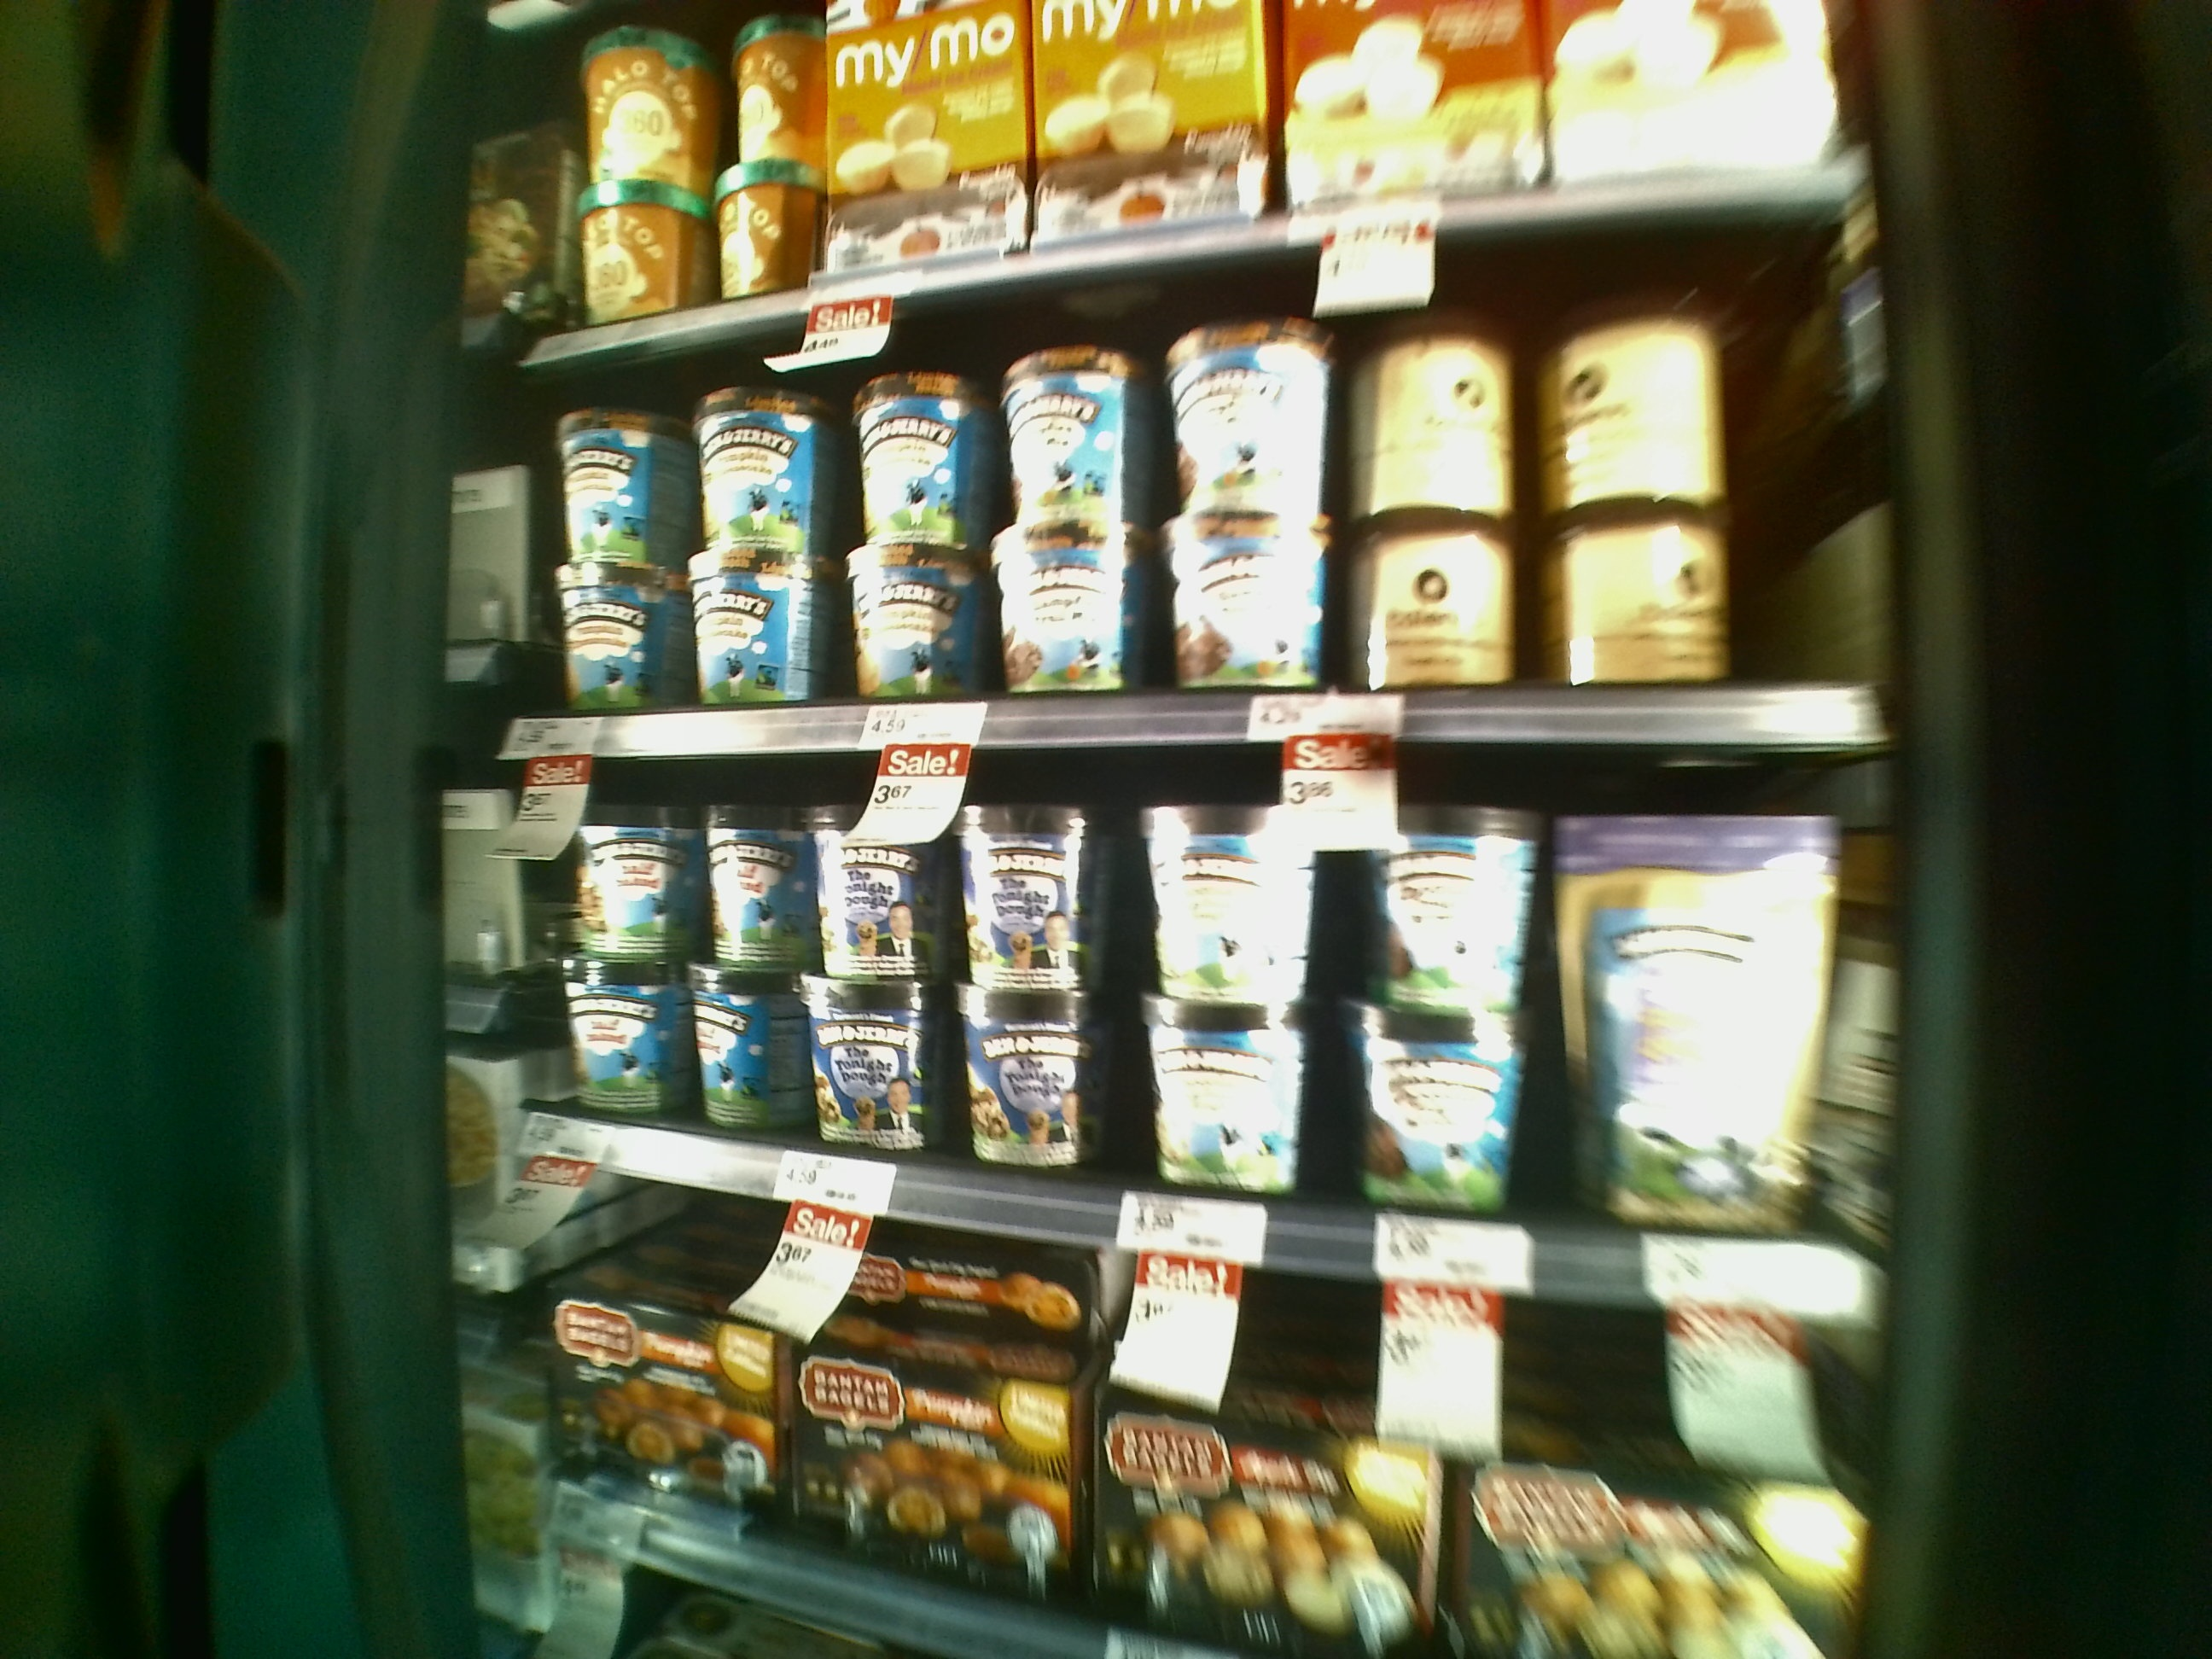shelf: (517, 694, 1844, 1293), (550, 308, 1864, 753)
